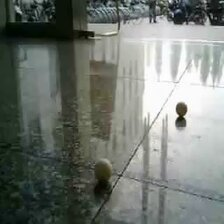w: (92, 158, 113, 183), (175, 102, 188, 117)
